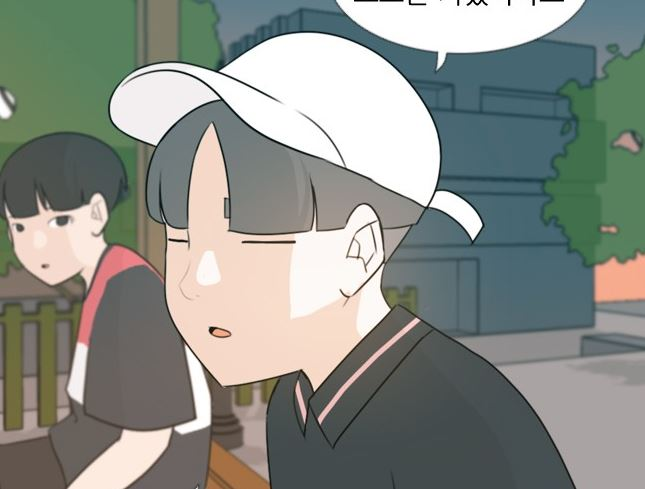hat: (103, 30, 448, 211)
